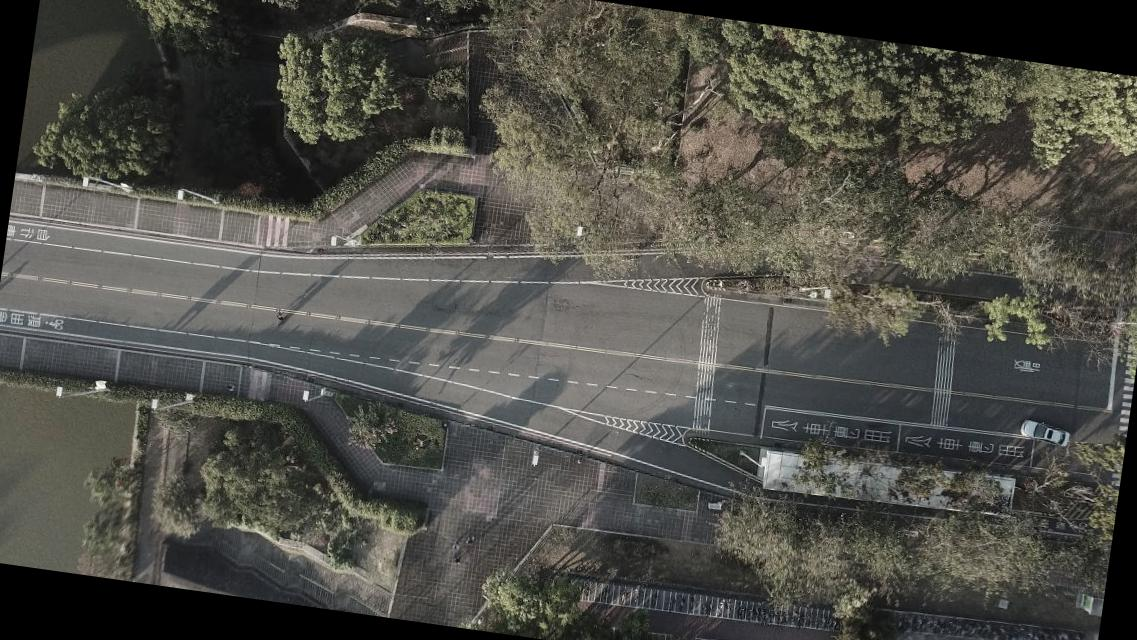vehicle: (1018, 418, 1070, 447)
